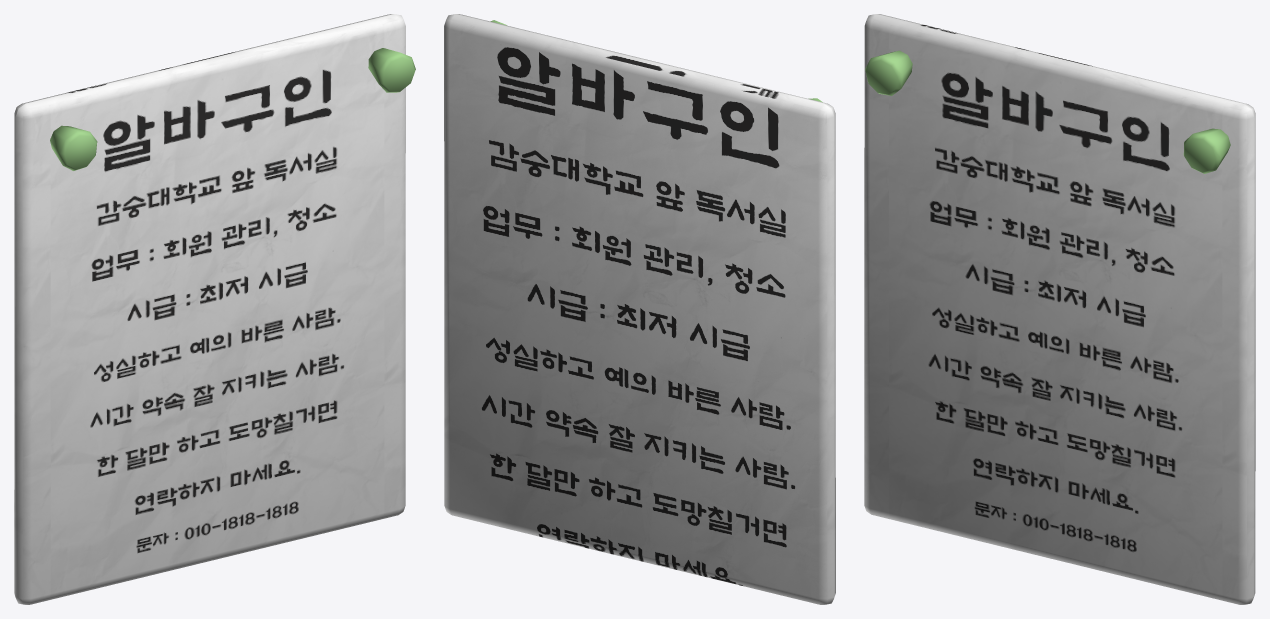
Rendered from DokseoMemo.glb.
3 renders of one model, left to right at view 1: azimuth 30°, elevation 25°; view 2: azimuth 150°, elevation 25°; view 3: azimuth 330°, elevation 25°, orthographic.
Visible parts, largest first — view 1: Dokseo; view 2: Dokseo; view 3: Dokseo.
Boxes of the visible parts, x1,y1,x2,y2 form: Dokseo: (14,14,415,604); Dokseo: (444,14,835,604); Dokseo: (864,14,1255,604).
Bounding box in the file's own units: 1.53 × 1.88 × 0.2074.
Materials: 2 (1 with a texture image).
